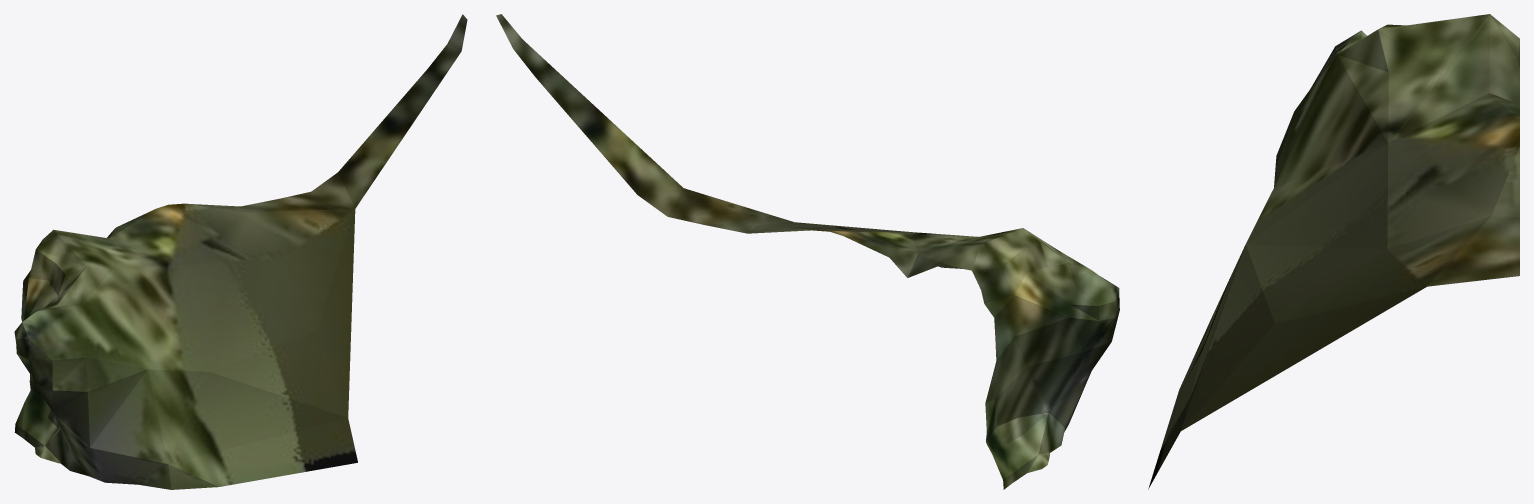
The picture shows the model from 3 angles, left to right: view 1: azimuth 30°, elevation 25°; view 2: azimuth 150°, elevation 25°; view 3: azimuth 270°, elevation 25°; orthographic projection. The views are drawn at different scales.
Bounding box in the file's own units: 1.51 × 0.902 × 0.617.
1 material, 1 textured.
